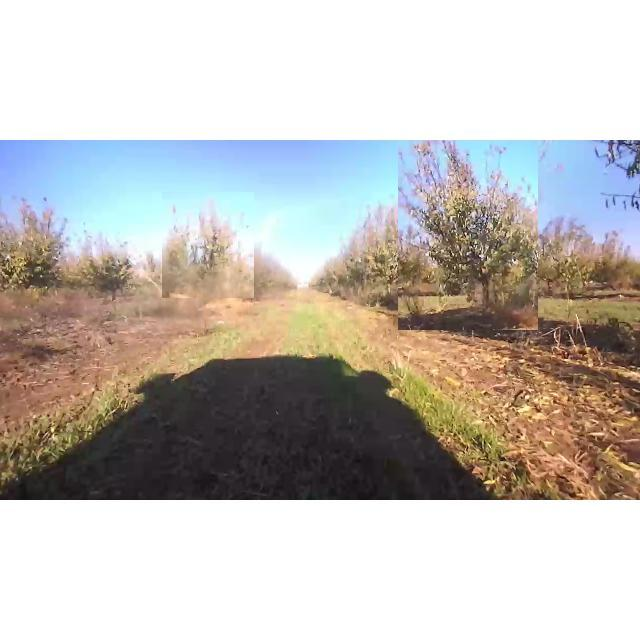direk: (398, 140, 538, 330), (162, 192, 255, 298)
